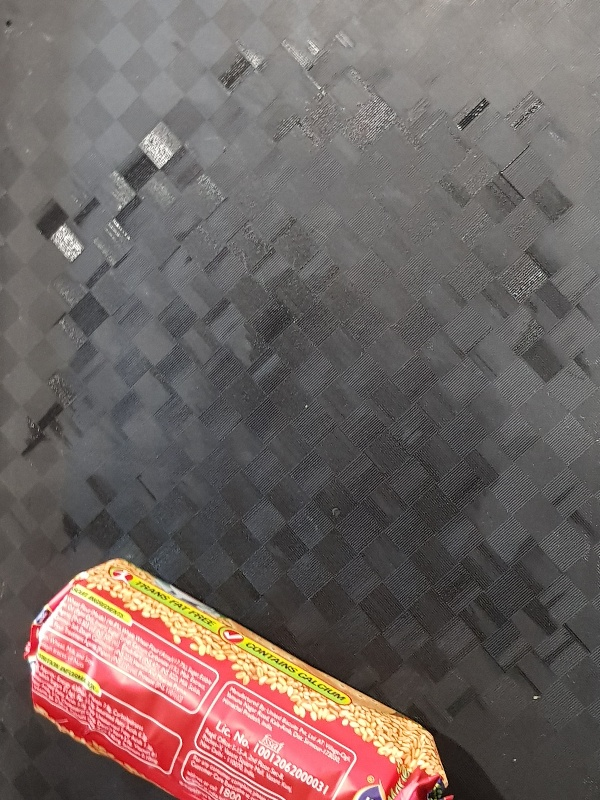McVitie's Wholewheat Marie: (24, 557, 458, 800)
